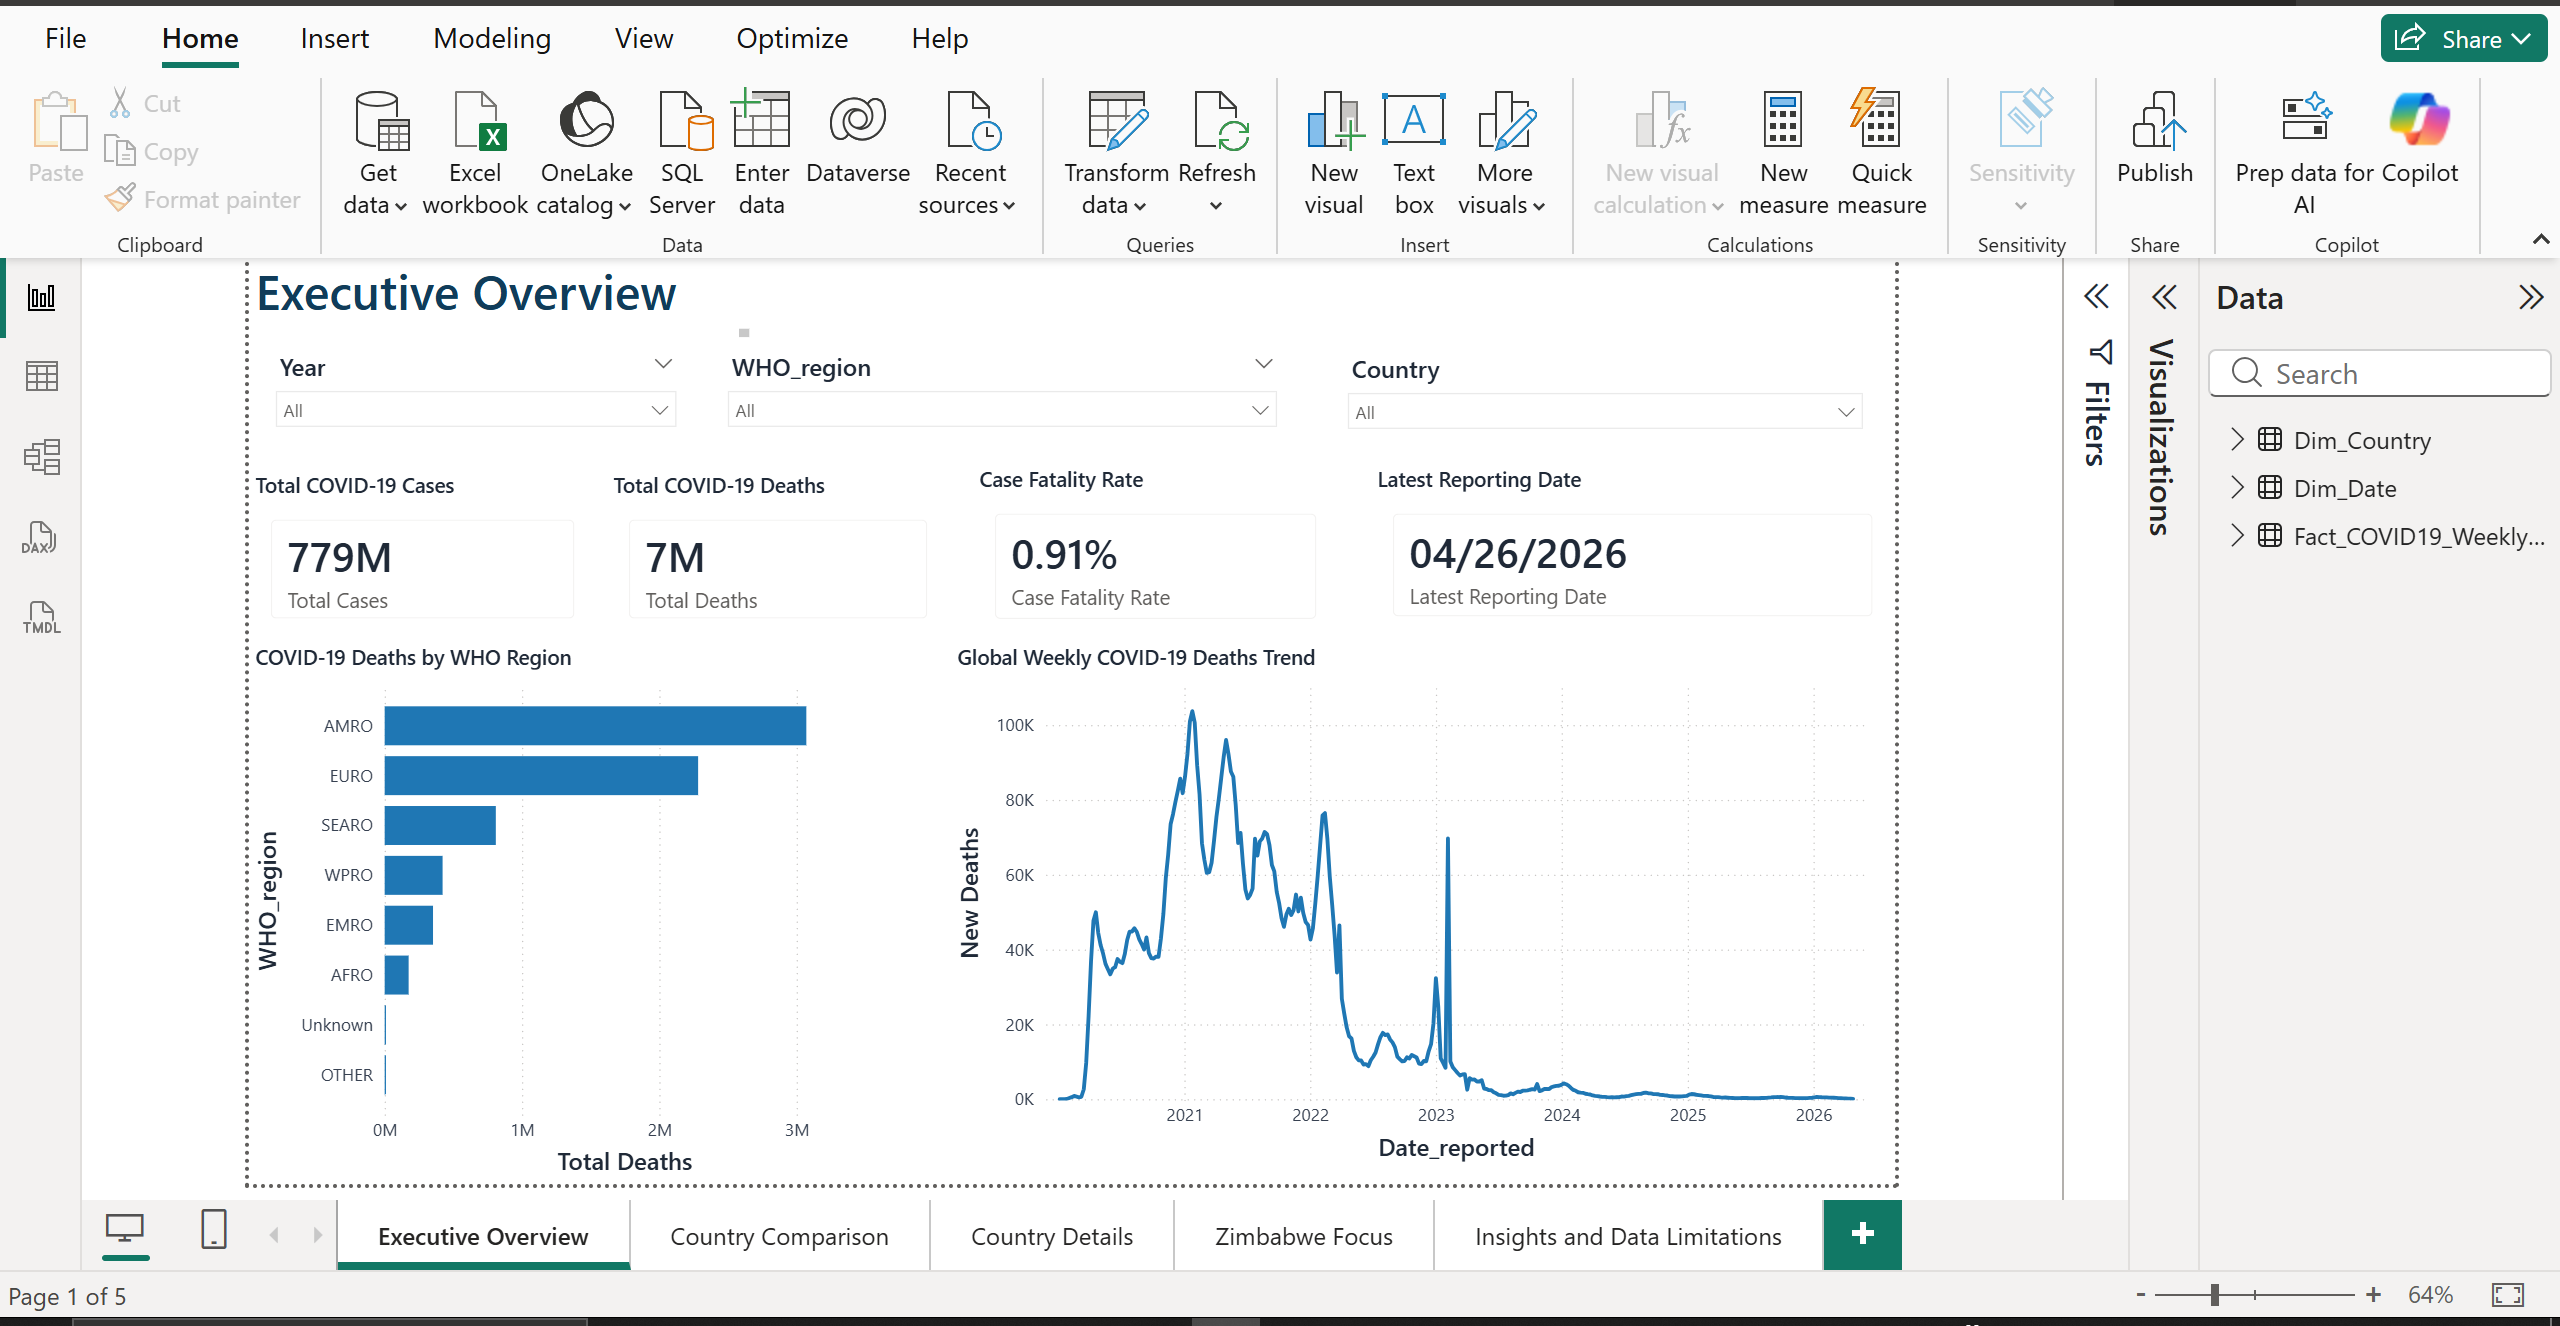

What the dashboard file says about the page in this screenshot:
{"tool":"powerbi","page":{"name":"Executive  Overview","canvas":[1280,720],"ordinal":0},"visuals":[{"type":"cardVisual","title":"Total COVID-19 Cases","fields":{"Data":["Fact_COVID19_Weekly_WHO.Total Cases"]},"box":[0,164.7,270.8,132.5],"z":0},{"type":"cardVisual","title":"Total COVID-19 Deaths","fields":{"Data":["Fact_COVID19_Weekly_WHO.Total Deaths"]},"box":[278.3,164.7,267,132.5],"z":1000},{"type":"cardVisual","title":"Case Fatality Rate","fields":{"Data":["Fact_COVID19_Weekly_WHO.Case Fatality Rate"]},"box":[562.4,160.9,284,138.2],"z":2000},{"type":"cardVisual","title":"Latest Reporting Date","fields":{"Data":["Fact_COVID19_Weekly_WHO.Latest Reporting Date"]},"box":[872.9,160.9,407.1,136.3],"z":3000},{"type":"lineChart","title":"Global Weekly COVID-19 Deaths Trend","fields":{"Category":["Dim_Date.Date_reported"],"Y":["Fact_COVID19_Weekly_WHO.New Deaths"]},"box":[545.3,299.2,721.4,409],"z":4000},{"type":"clusteredBarChart","title":"COVID-19 Deaths by WHO Region","fields":{"Category":["Fact_COVID19_Weekly_WHO.WHO_region"],"Y":["Fact_COVID19_Weekly_WHO.Total Deaths"]},"box":[0,299.2,494.2,420.4],"z":5000},{"type":"slicer","fields":{"Values":["Fact_COVID19_Weekly_WHO.Year"]},"box":[11.4,66.3,331.4,70.1],"z":6000},{"type":"slicer","fields":{"Values":["Fact_COVID19_Weekly_WHO.WHO_region"]},"box":[361.7,66.3,446.9,70.1],"z":7000},{"type":"slicer","fields":{"Values":["Fact_COVID19_Weekly_WHO.Country"]},"box":[844.5,68.2,420.4,70.1],"z":8000},{"type":"textbox","title":"Executive Overview","box":[0,0,393.8,66.3],"z":9000}]}

Visuals, with their boxes on the page's 1280x720 design canvas (x1, y1, x2, y2). These are canvas units, not pixel positions in the 2560x1326 screenshot, which may show the page scaled, cropped or inside an application window:
"Total COVID-19 Cases" cardVisual: 0 165 271 297
"Total COVID-19 Deaths" cardVisual: 278 165 545 297
"Case Fatality Rate" cardVisual: 562 161 846 299
"Latest Reporting Date" cardVisual: 873 161 1280 297
"Global Weekly COVID-19 Deaths Trend" lineChart: 545 299 1267 708
"COVID-19 Deaths by WHO Region" clusteredBarChart: 0 299 494 720
slicer - Fact_COVID19_Weekly_WHO.Year: 11 66 343 136
slicer - Fact_COVID19_Weekly_WHO.WHO_region: 362 66 809 136
slicer - Fact_COVID19_Weekly_WHO.Country: 844 68 1265 138
"Executive Overview" textbox: 0 0 394 66
